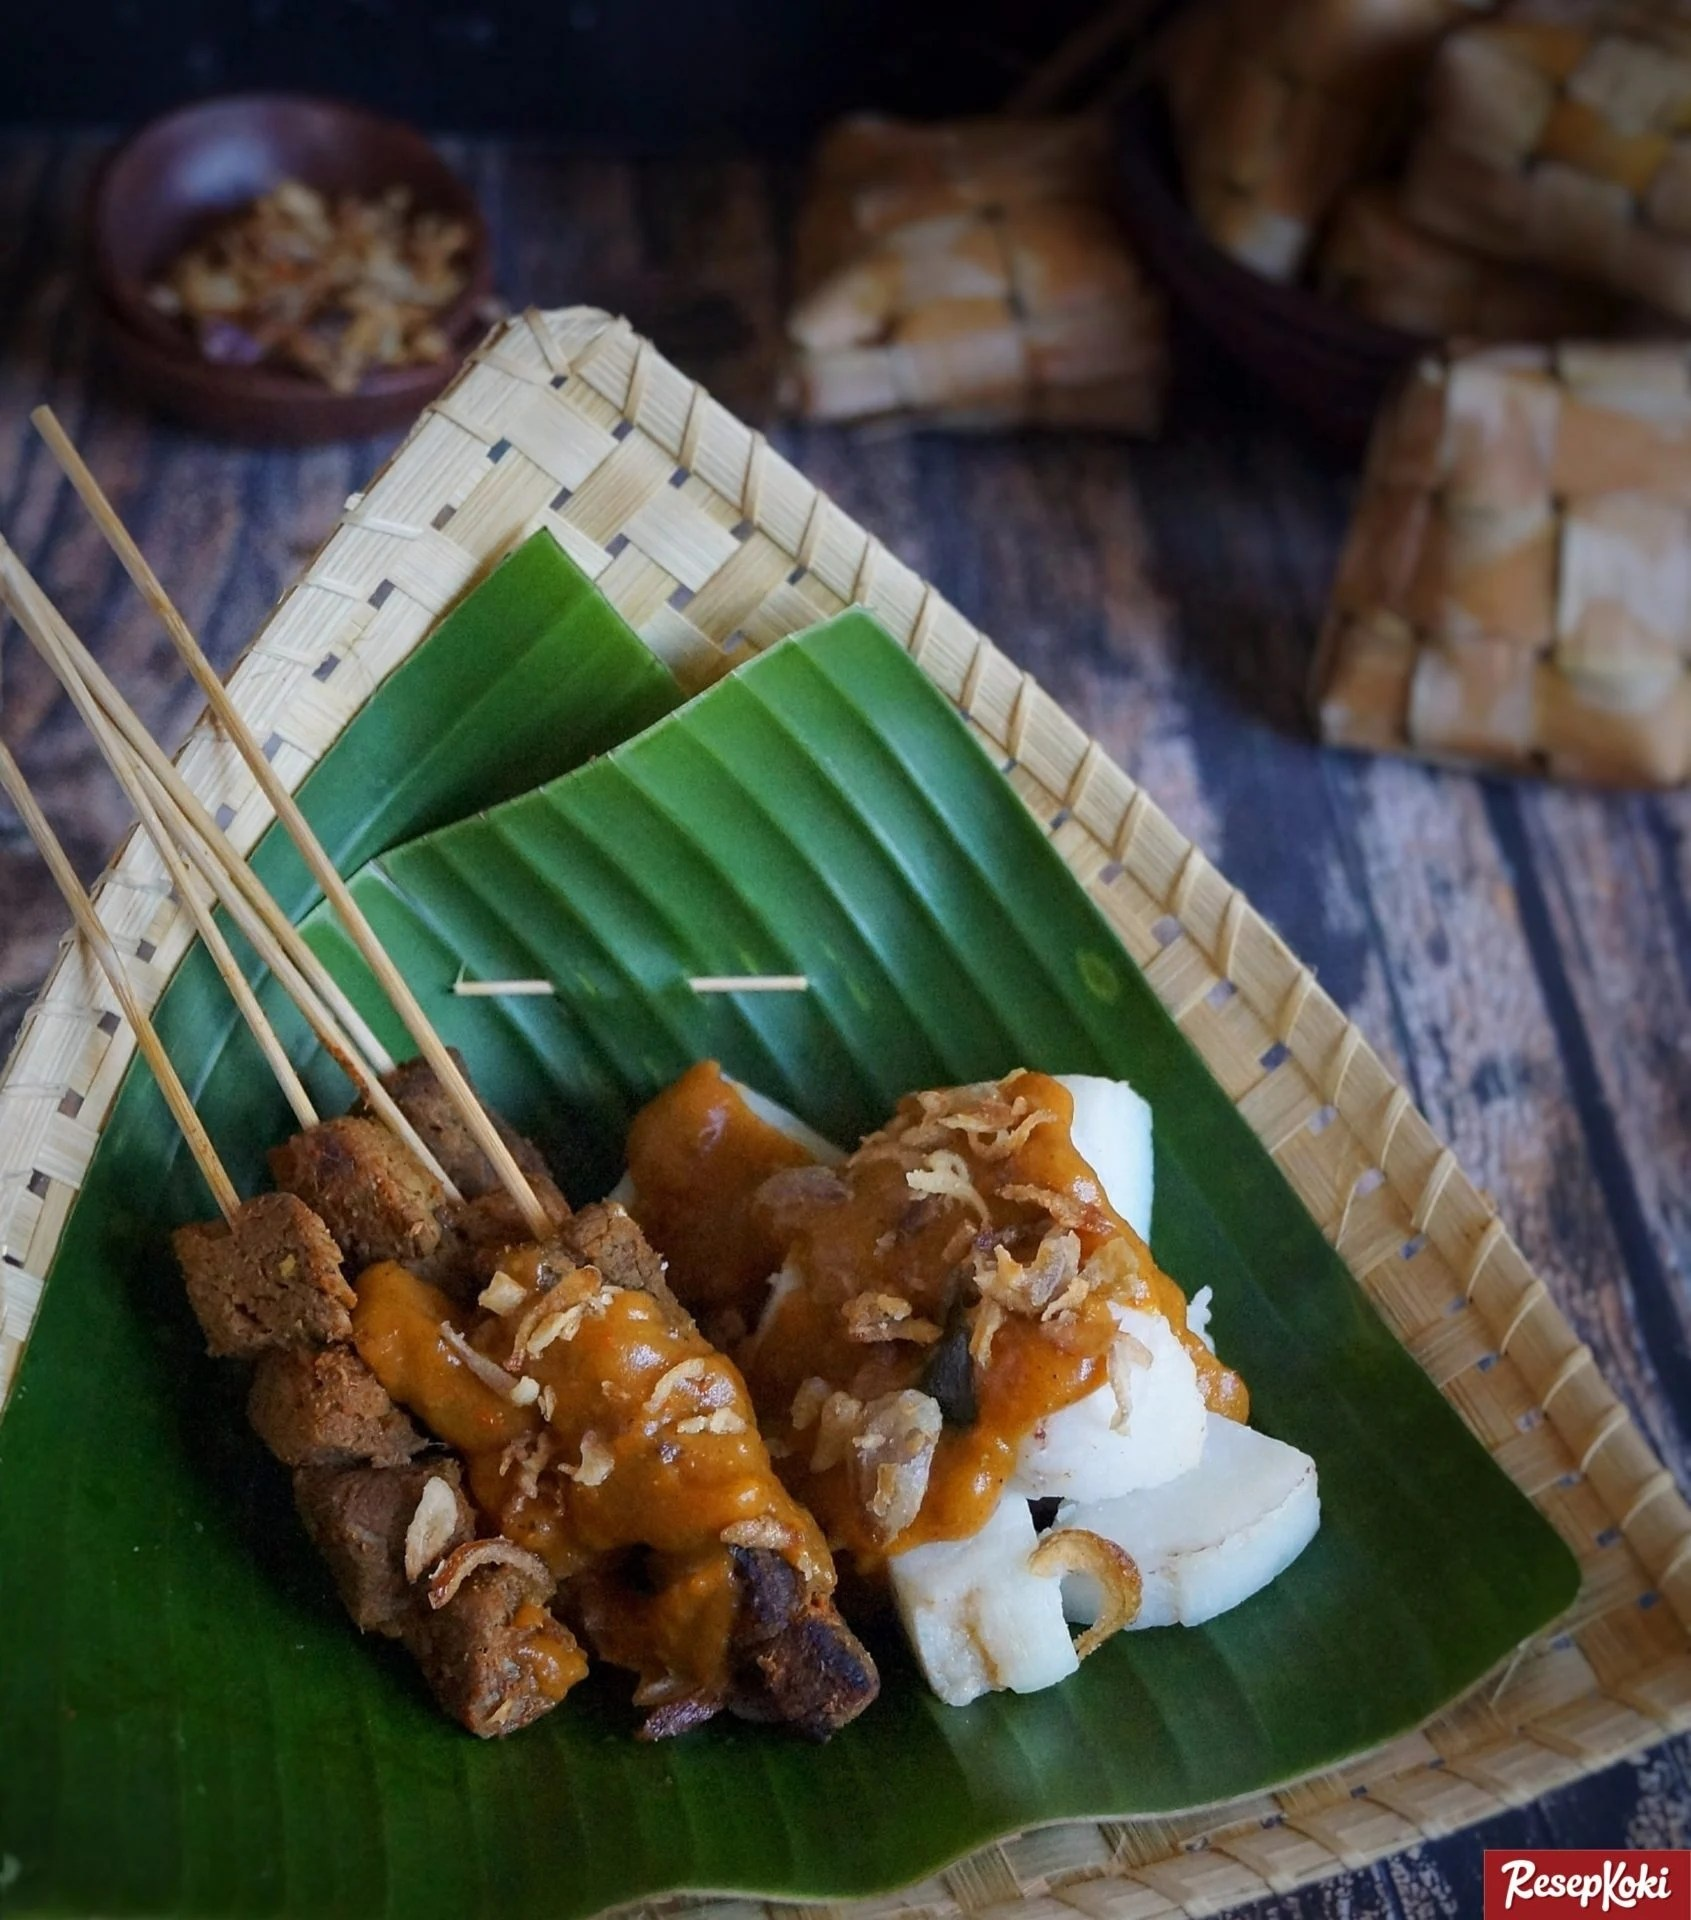sate: (0, 410, 875, 1744)
